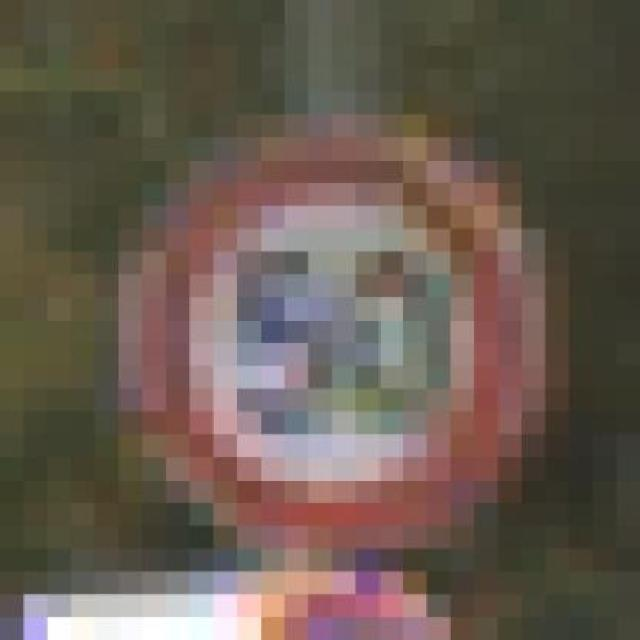forb_speed_over_50: (147, 154, 521, 540)
